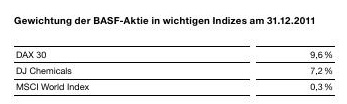table: (0, 0, 347, 104)
